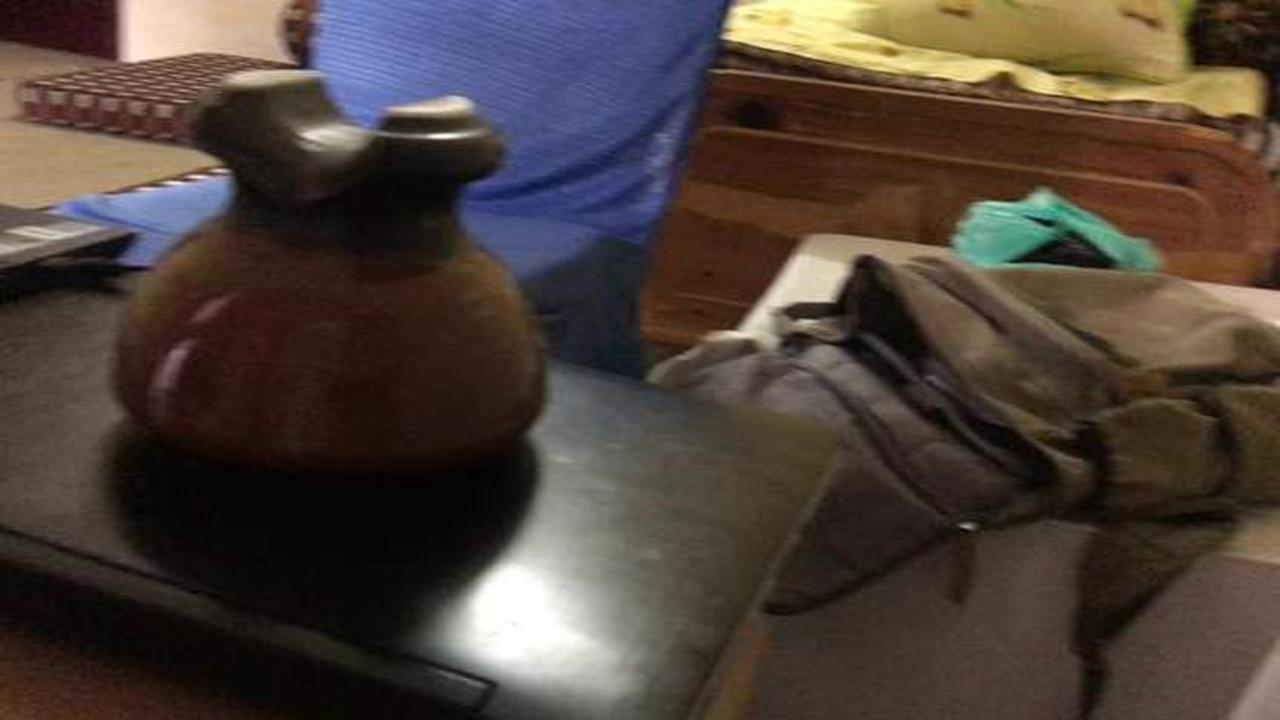insulator_pin: (92, 54, 567, 501)
